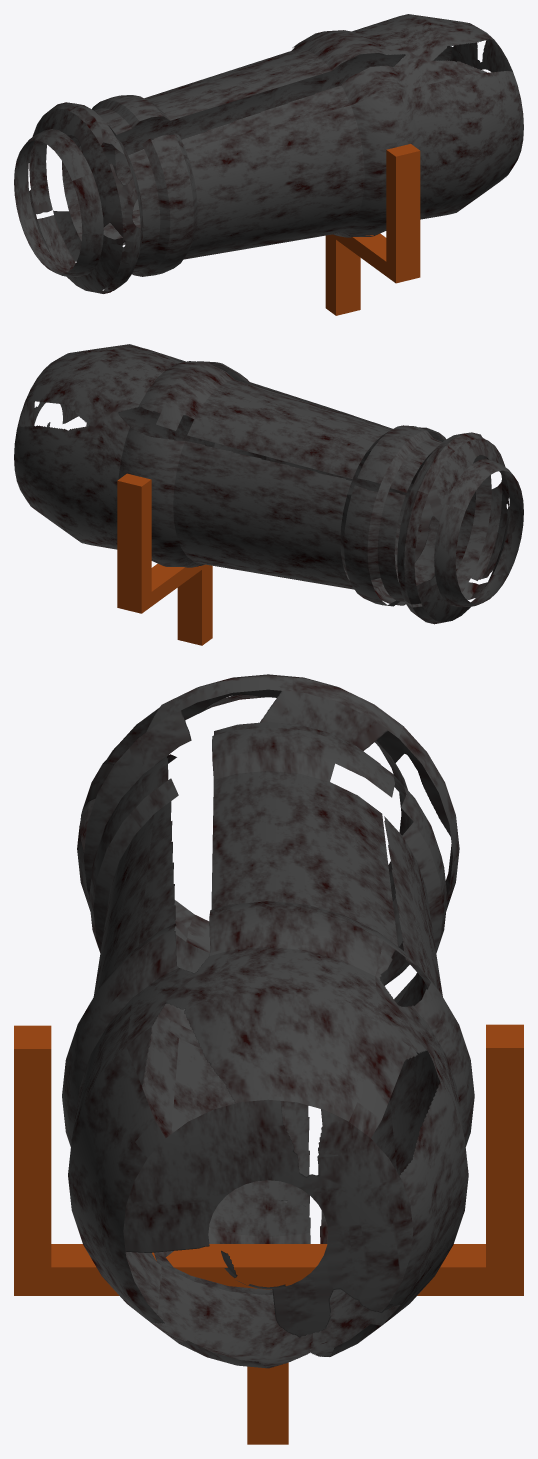
The model's file is пушка (3).fbx.
The picture shows the model from 3 angles, top to bottom: view 1: azimuth 30°, elevation 25°; view 2: azimuth 150°, elevation 25°; view 3: azimuth 270°, elevation 25°; orthographic projection. The views are drawn at different scales.
Parts seen in each view (by area): view 1: Cylinder, Cube; view 2: Cylinder, Cube; view 3: Cylinder, Cube.
Part boxes in pixels (bbox=[...]): Cylinder: bbox=[14, 14, 523, 293]; Cube: bbox=[325, 144, 420, 315]; Cylinder: bbox=[14, 344, 523, 624]; Cube: bbox=[117, 473, 212, 645]; Cylinder: bbox=[62, 674, 474, 1368]; Cube: bbox=[14, 1024, 523, 1444].
Size of the model in its own units: 521 by 289 by 254.
Materials: 2 (1 with a texture image).
